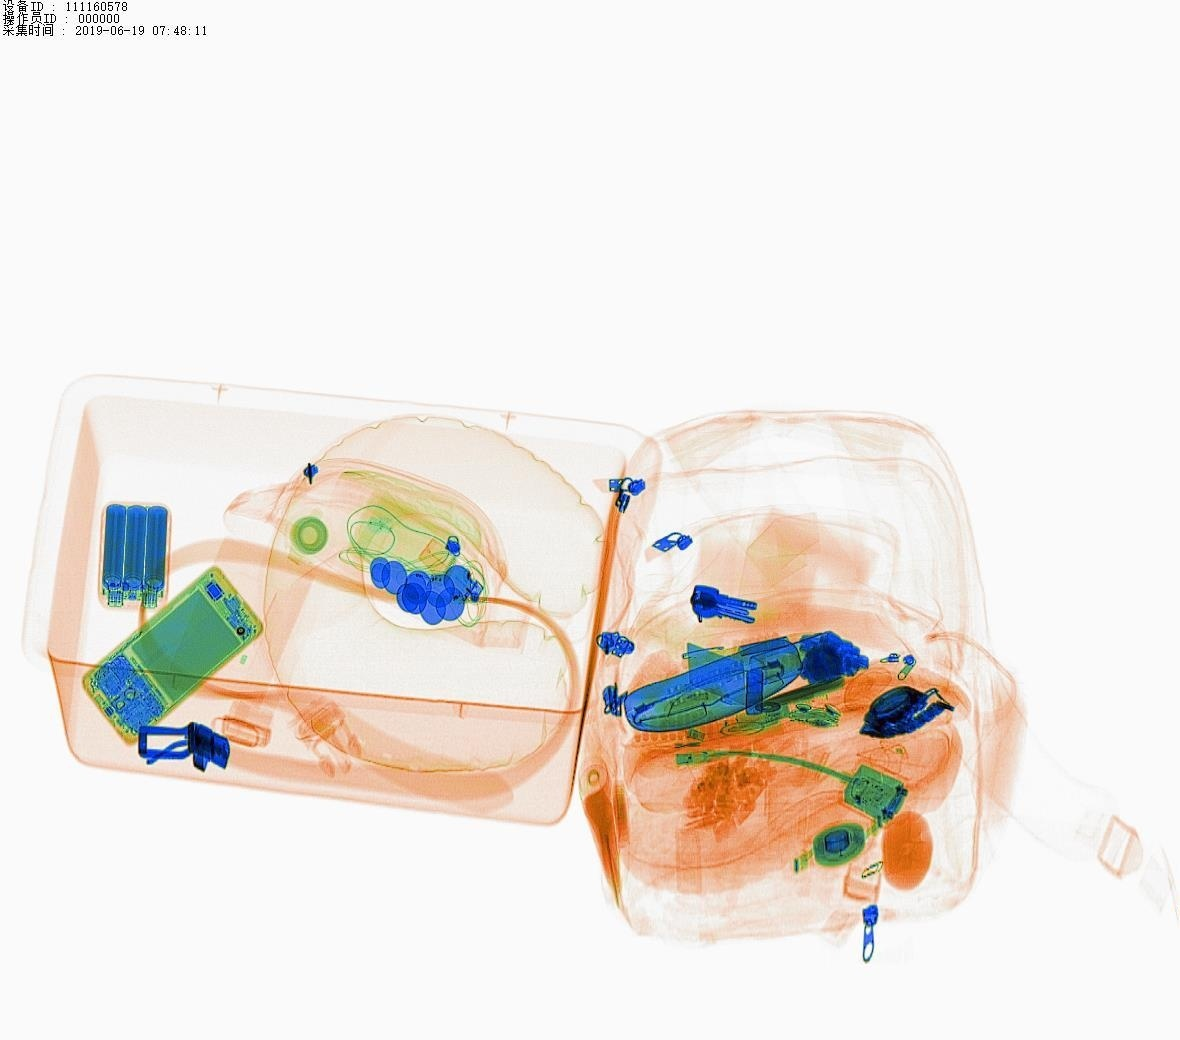NonmetallicFire: (408, 514, 509, 611)
